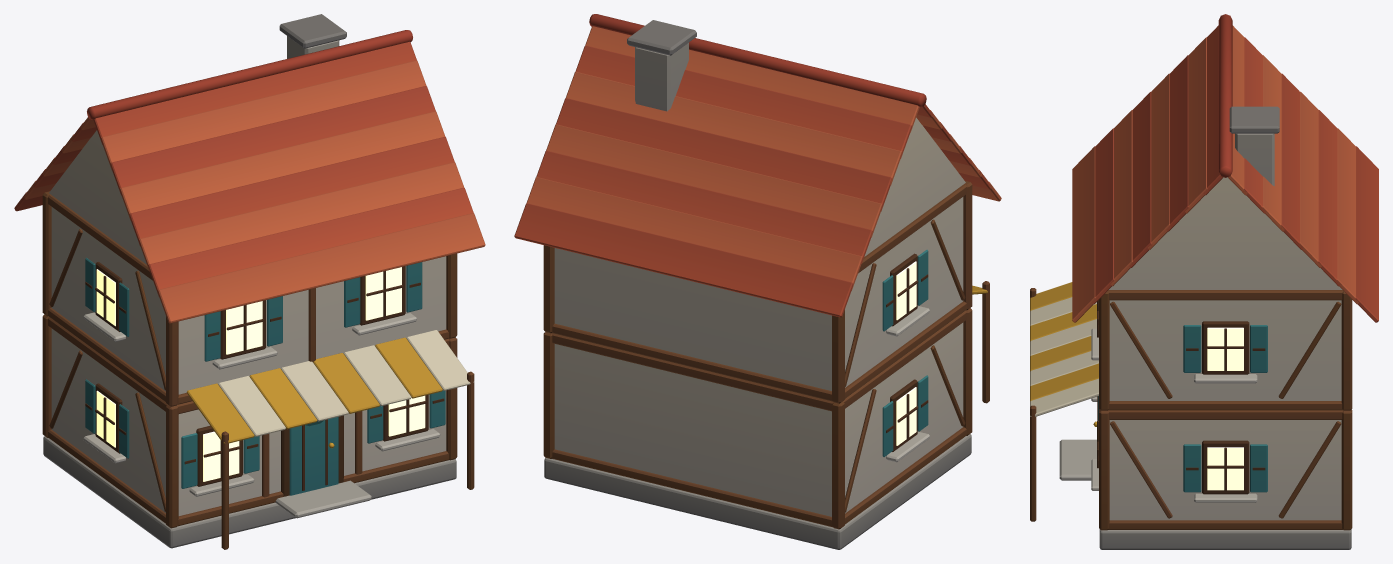
The model's file is shop.glb.
3 views of the same model, side by side, from view 1: azimuth 30°, elevation 25°; view 2: azimuth 150°, elevation 25°; view 3: azimuth 270°, elevation 25° (orthographic). The views are drawn at different scales.
Visible parts, largest first — view 1: shop; view 2: shop; view 3: shop.
Boxes of the visible parts, box(x1,y1,x2,y2) form: shop: box(14, 14, 485, 549); shop: box(514, 14, 1001, 549); shop: box(1030, 14, 1378, 549).
Bounding box in the file's own units: 6.9 × 8.44 × 6.62.
